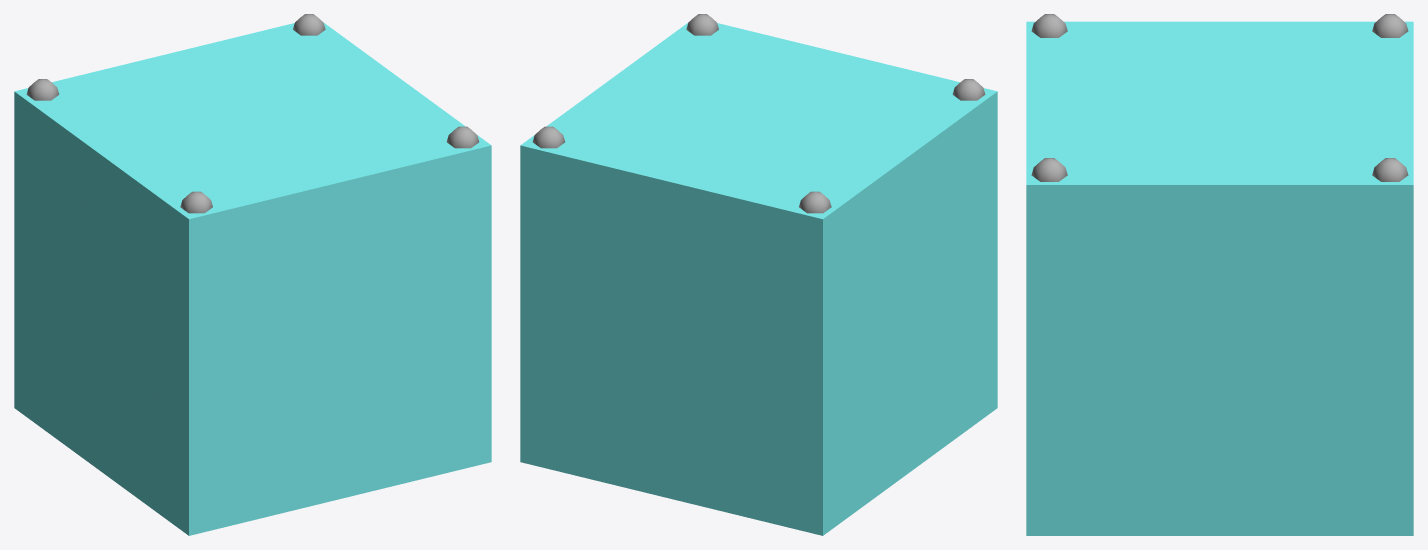
The model's file is rainbow_cyan.fbx.
3 renders of one model, left to right at view 1: azimuth 30°, elevation 25°; view 2: azimuth 150°, elevation 25°; view 3: azimuth 270°, elevation 25°, orthographic. The views are drawn at different scales.
Parts seen in each view (by area): view 1: Mesh; view 2: Mesh; view 3: Mesh.
Part boxes in pixels (x1,y1,x2,y2): Mesh: (14,14,491,535); Mesh: (520,14,997,535); Mesh: (1026,14,1413,535).
Bounding box in the file's own units: 1 × 1.05 × 1.
